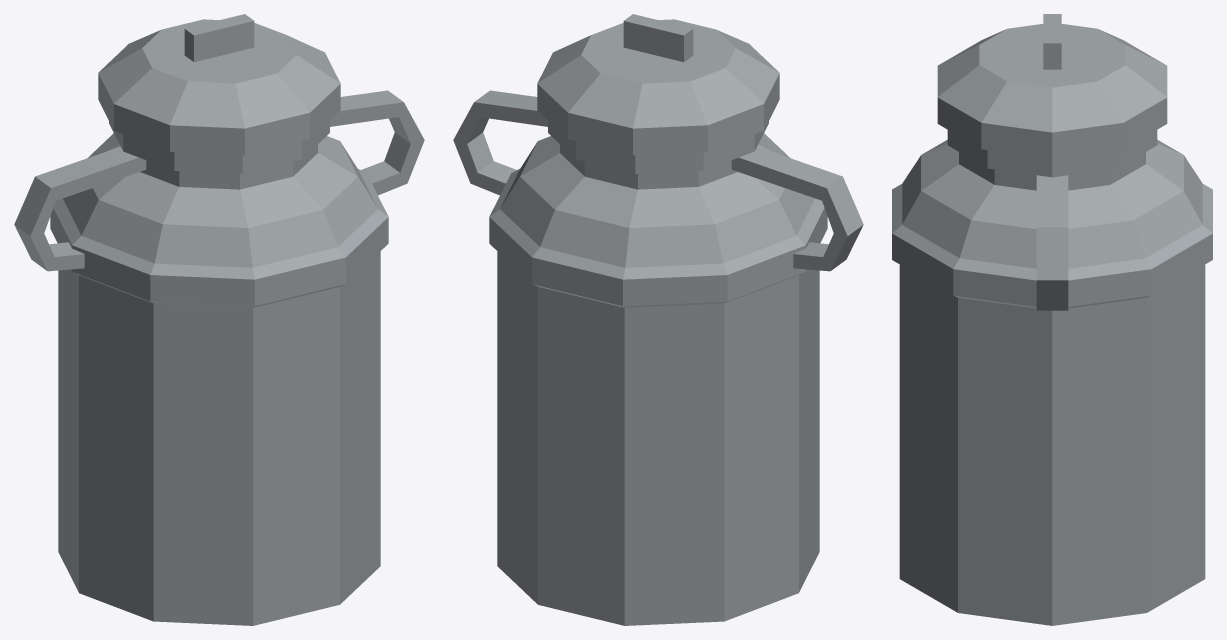
The model's file is FMS_Crate_Milk_Can.fbx.
The picture shows the model from 3 angles, left to right: view 1: azimuth 30°, elevation 25°; view 2: azimuth 150°, elevation 25°; view 3: azimuth 270°, elevation 25°; orthographic projection.
Parts seen in each view (by area): view 1: item_tools_milk_can; view 2: item_tools_milk_can; view 3: item_tools_milk_can.
Boxes of the visible parts, x1=… form: item_tools_milk_can: x1=14, y1=14, x2=424, y2=625; item_tools_milk_can: x1=453, y1=14, x2=863, y2=625; item_tools_milk_can: x1=892, y1=14, x2=1212, y2=625.
Size of the model in its own units: 0.34 by 0.44 by 0.2416.
